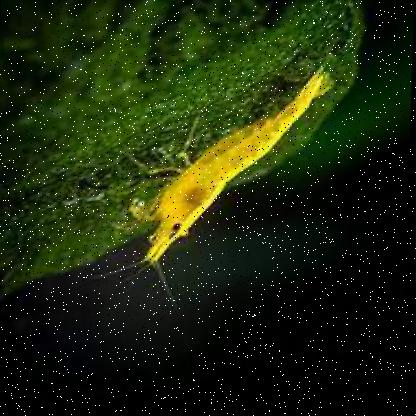shrimp: (126, 75, 336, 278)
